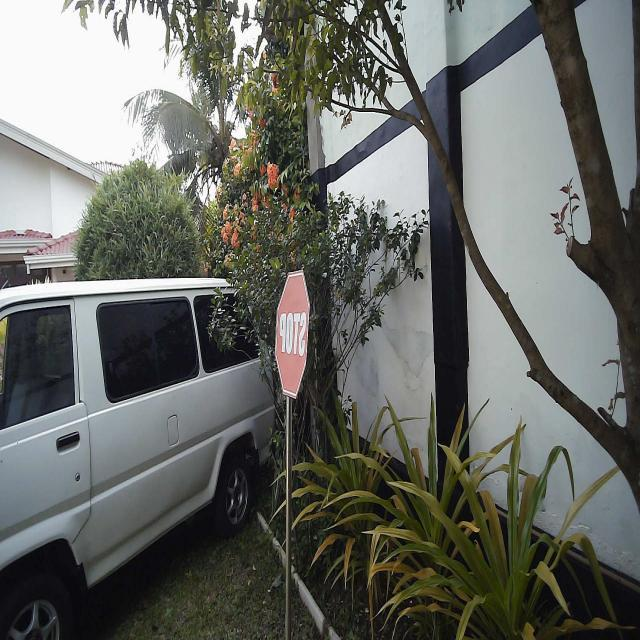stop: (272, 267, 312, 402)
